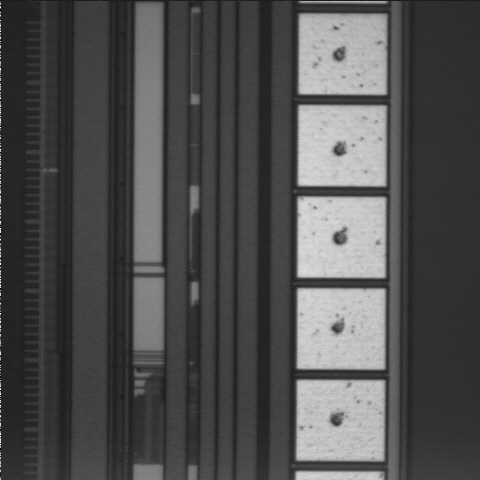pad: (298, 106, 385, 186), (298, 197, 385, 277), (298, 289, 385, 369), (297, 380, 384, 460), (299, 15, 386, 94)
